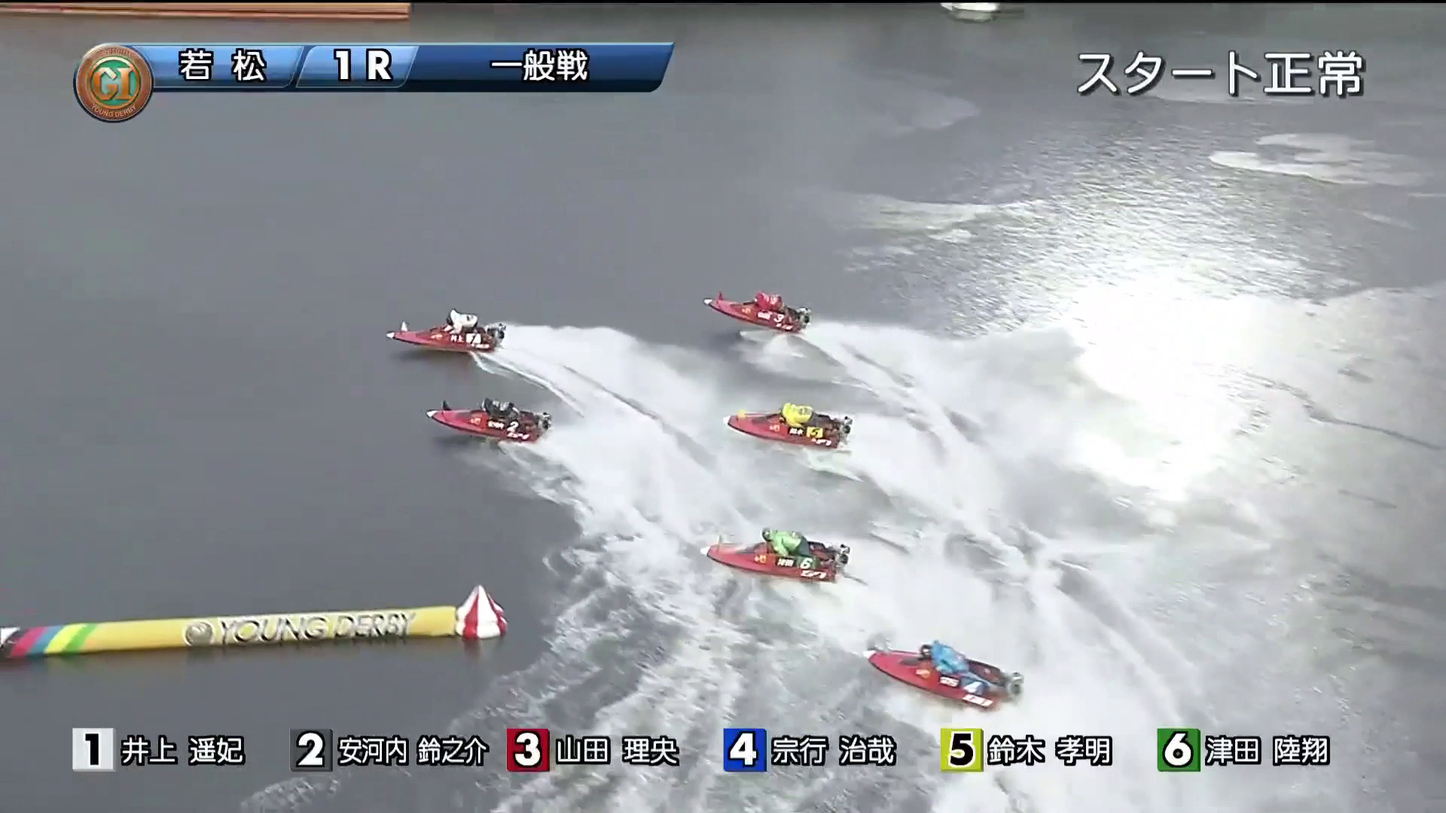１号艇: (422, 282, 493, 336)
２号艇: (425, 370, 554, 431)
３号艇: (734, 267, 832, 319)
４号艇: (729, 507, 863, 573)
５号艇: (886, 651, 1010, 706)
６号艇: (741, 357, 841, 437)
